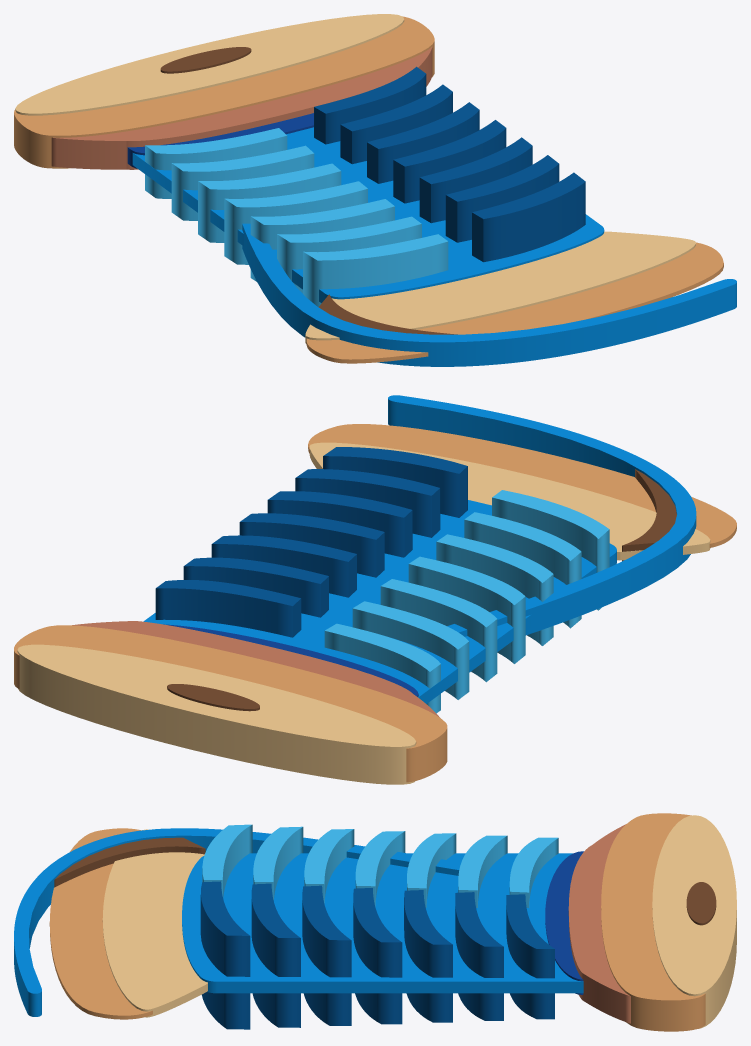
File: emoji_u1f9f5.glb
3 views of the same model, one above another, from view 1: azimuth 30°, elevation 25°; view 2: azimuth 150°, elevation 25°; view 3: azimuth 270°, elevation 25° (orthographic). The views are drawn at different scales.
Parts seen in each view (by area): view 1: emoji_u1f9f5; view 2: emoji_u1f9f5; view 3: emoji_u1f9f5.
Boxes of the visible parts, left/top/right/bottom form: emoji_u1f9f5: left=14, top=14, right=736, bottom=366; emoji_u1f9f5: left=14, top=395, right=736, bottom=784; emoji_u1f9f5: left=14, top=813, right=736, bottom=1031.
Size of the model in its own units: 0.0207 by 0.0048 by 0.0336.
